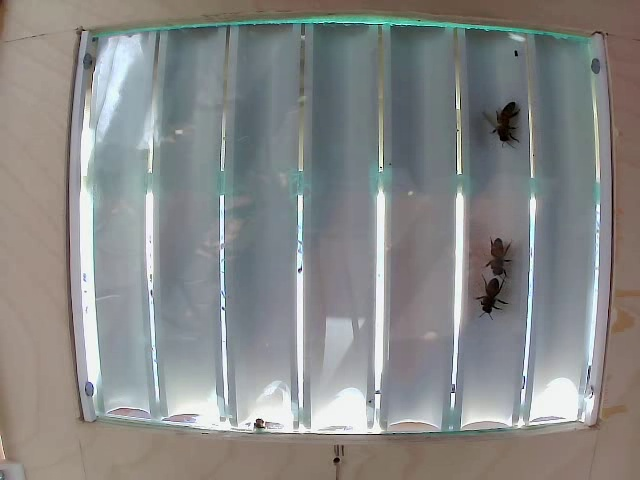bee: (473, 268, 518, 325), (494, 97, 523, 152), (485, 234, 510, 278)
